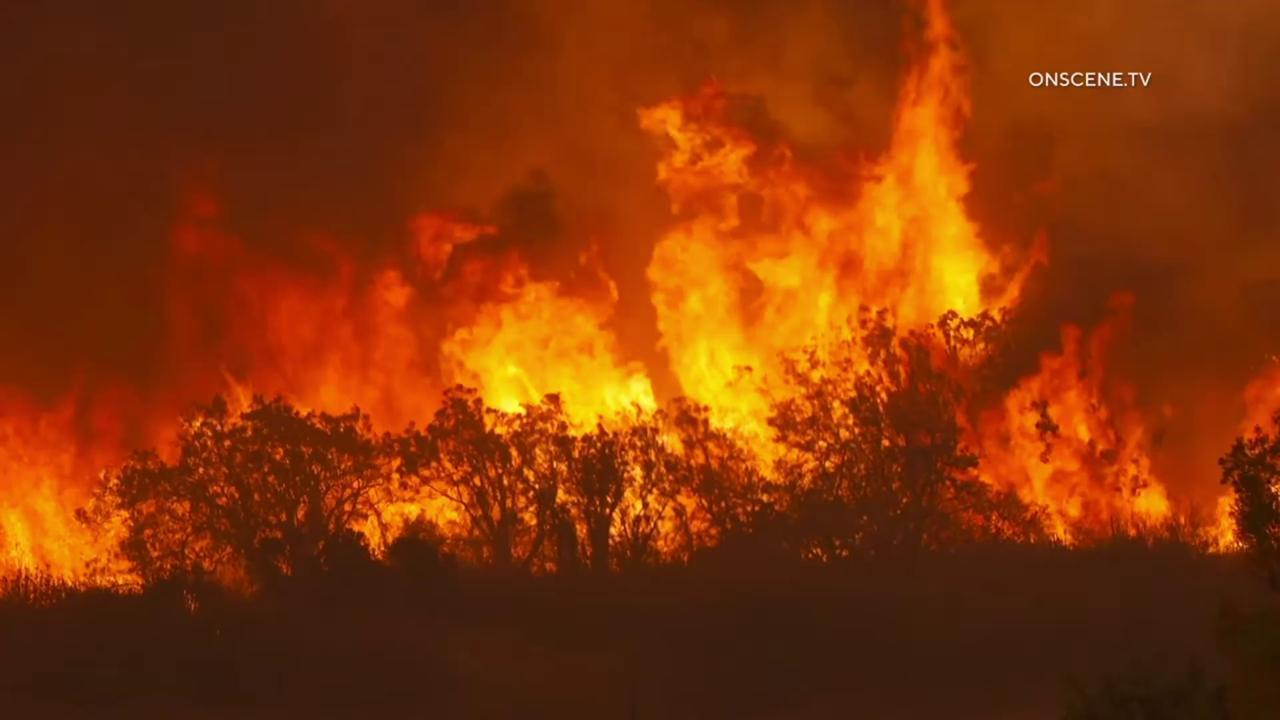fire: (0, 0, 1192, 604), (1191, 484, 1252, 561), (1235, 354, 1280, 452), (1267, 476, 1280, 501)
smoke: (0, 0, 1280, 720)
